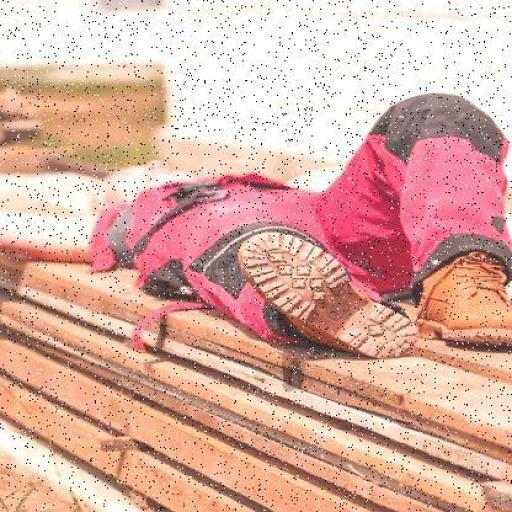safety_shoe: (238, 238, 418, 360), (408, 248, 511, 358)
